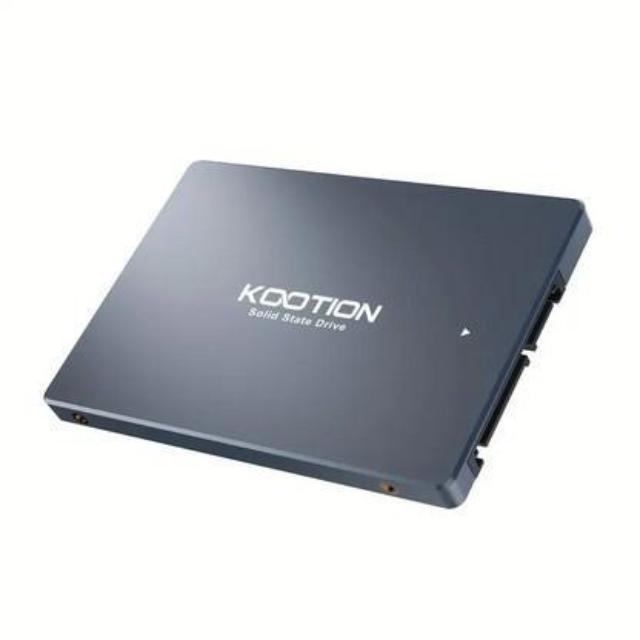DISK: (39, 153, 604, 513)
